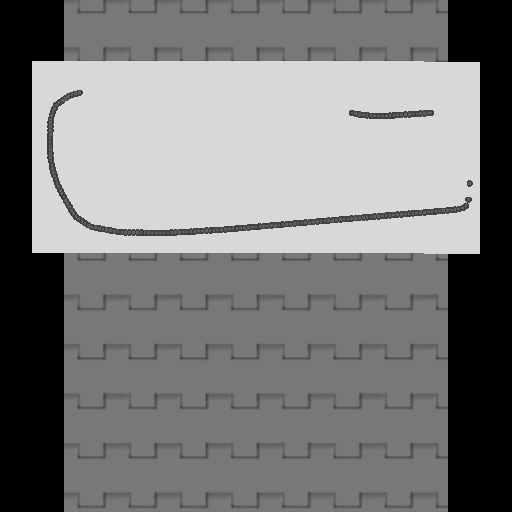Defect: (83, 85, 351, 120)
